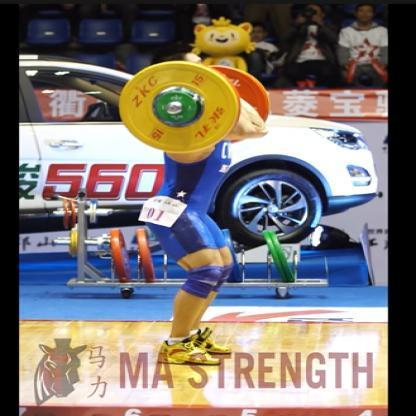barbell: (118, 59, 272, 154)
